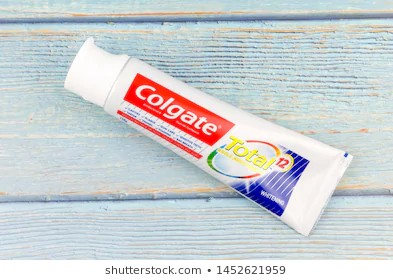colgate-total-150gm: (63, 35, 352, 241)
